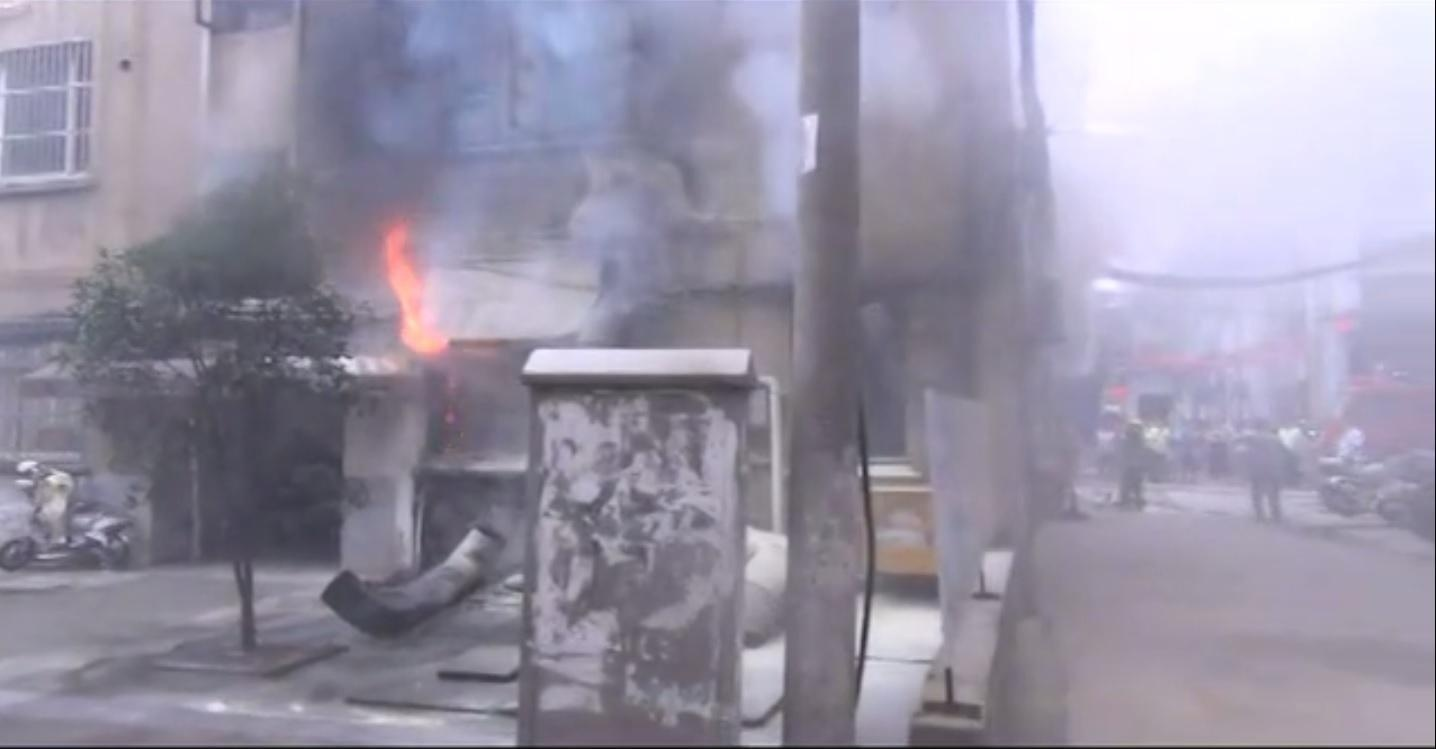fire: (380, 225, 444, 358)
